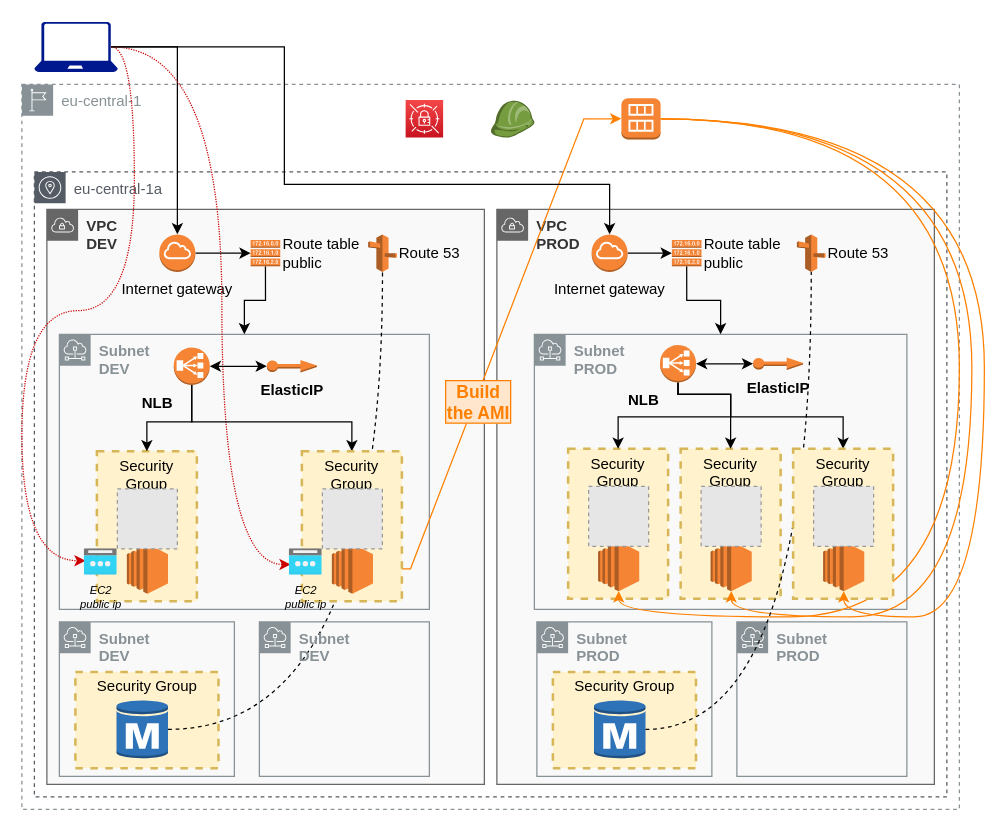
The diagram is 1006 pixels wide and 831 high, and some of its shapes have lost their labels. Grey dashed boxes stand in for pictures. The centre of each missing label's shape, as x and y in pixels:
AMI: the point at 640,118
db secrets: the point at 423,118
IAM role: the point at 511,118
